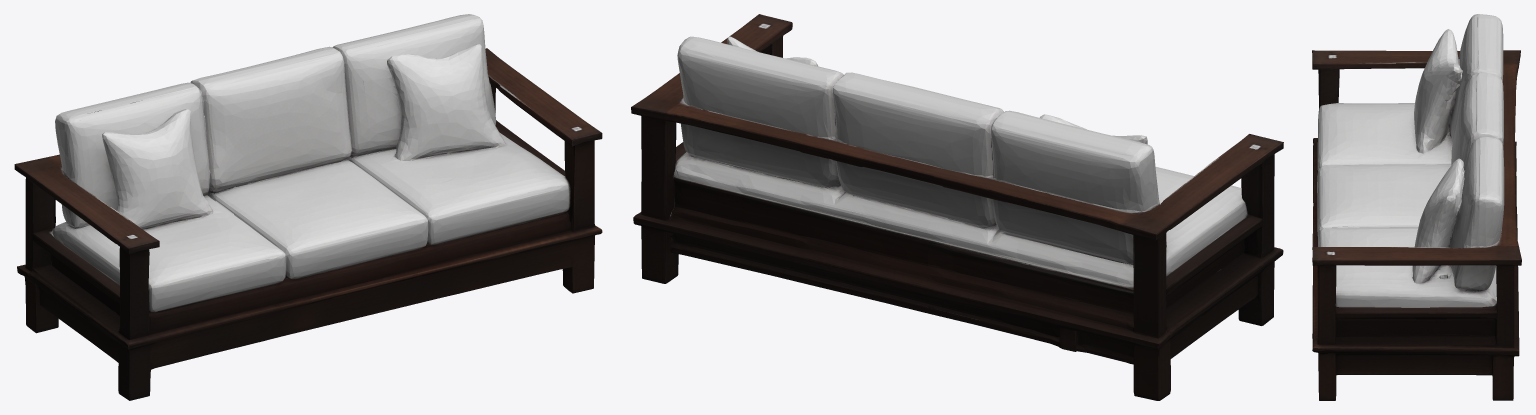
Rendered from cus6.glb.
3 views of the same model, side by side, from view 1: azimuth 30°, elevation 25°; view 2: azimuth 150°, elevation 25°; view 3: azimuth 270°, elevation 25° (orthographic). The views are drawn at different scales.
Parts seen in each view (by area): view 1: world; view 2: world; view 3: world.
Boxes of the visible parts, x1=… form: world: x1=14, y1=14, x2=602, y2=400; world: x1=631, y1=14, x2=1283, y2=400; world: x1=1312, y1=14, x2=1521, y2=400.
Size of the model in its own units: 0.9948 by 0.4292 by 0.4196.
1 material, 1 textured.
